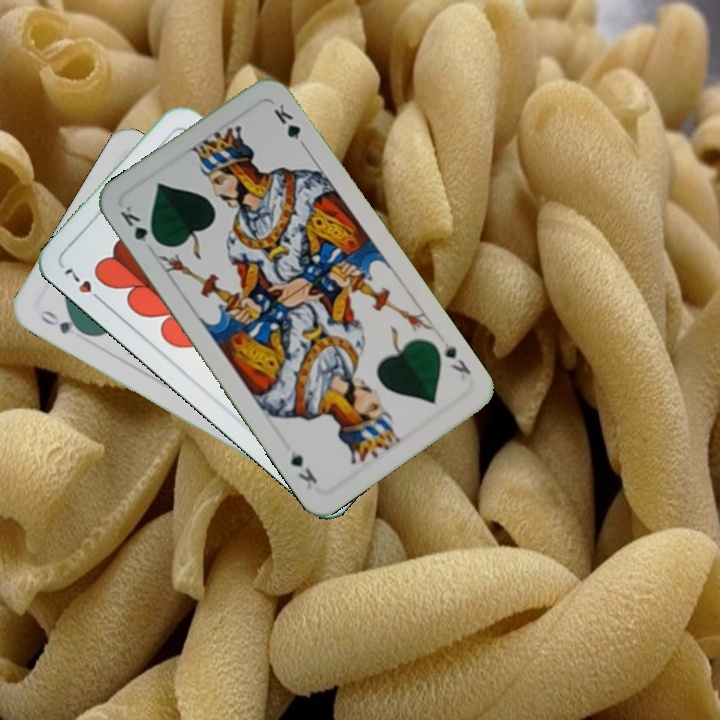GK: (116, 201, 162, 248), (439, 338, 474, 383)
GO: (35, 306, 90, 338)
H7: (59, 261, 107, 307)
